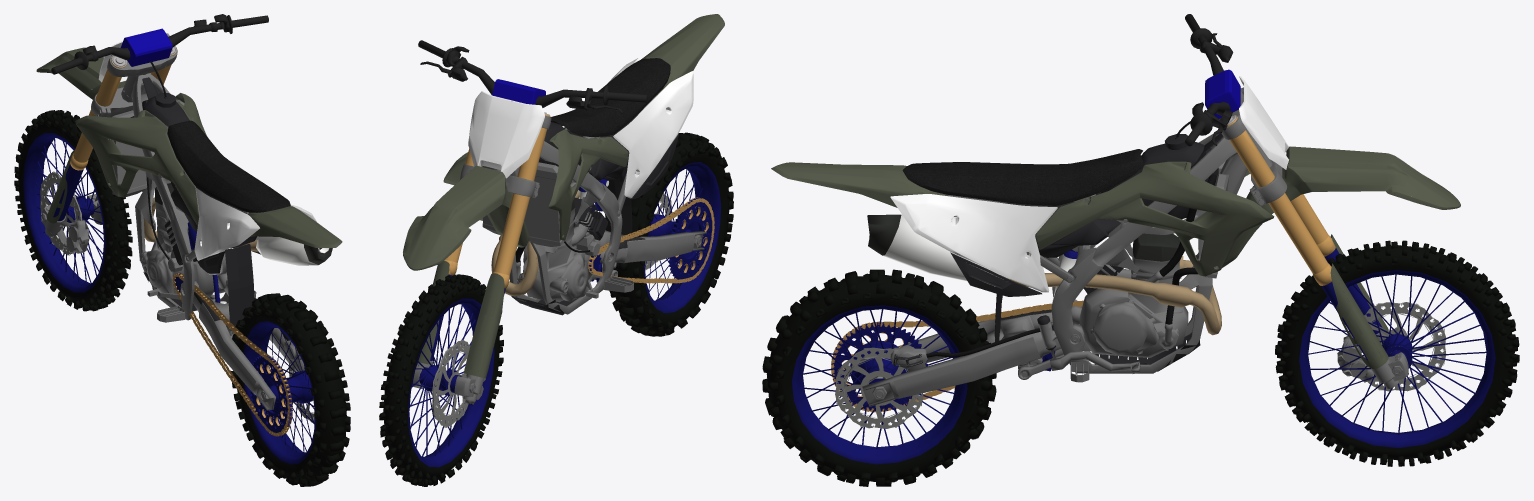
Rendered from motorcycle.glb.
3 views of the same model, side by side, from view 1: azimuth 30°, elevation 25°; view 2: azimuth 150°, elevation 25°; view 3: azimuth 270°, elevation 25° (orthographic). The views are drawn at different scales.
Visible parts, largest first — view 1: body, rear-wheel, front-wheel; view 2: body, front-wheel, rear-wheel; view 3: body, rear-wheel, front-wheel.
Part boxes in pixels (left/top/right/bottom): body: left=36, top=14, right=342, bottom=436; rear-wheel: left=231, top=293, right=350, bottom=486; front-wheel: left=14, top=110, right=132, bottom=311; body: left=403, top=14, right=724, bottom=404; front-wheel: left=379, top=274, right=503, bottom=486; rear-wheel: left=609, top=132, right=733, bottom=336; body: left=771, top=14, right=1460, bottom=412; rear-wheel: left=762, top=269, right=996, bottom=486; front-wheel: left=1275, top=240, right=1519, bottom=466.
Bounding box in the file's own units: 1.04 × 1.61 × 2.65.
Materials: 7 (5 with a texture image).
